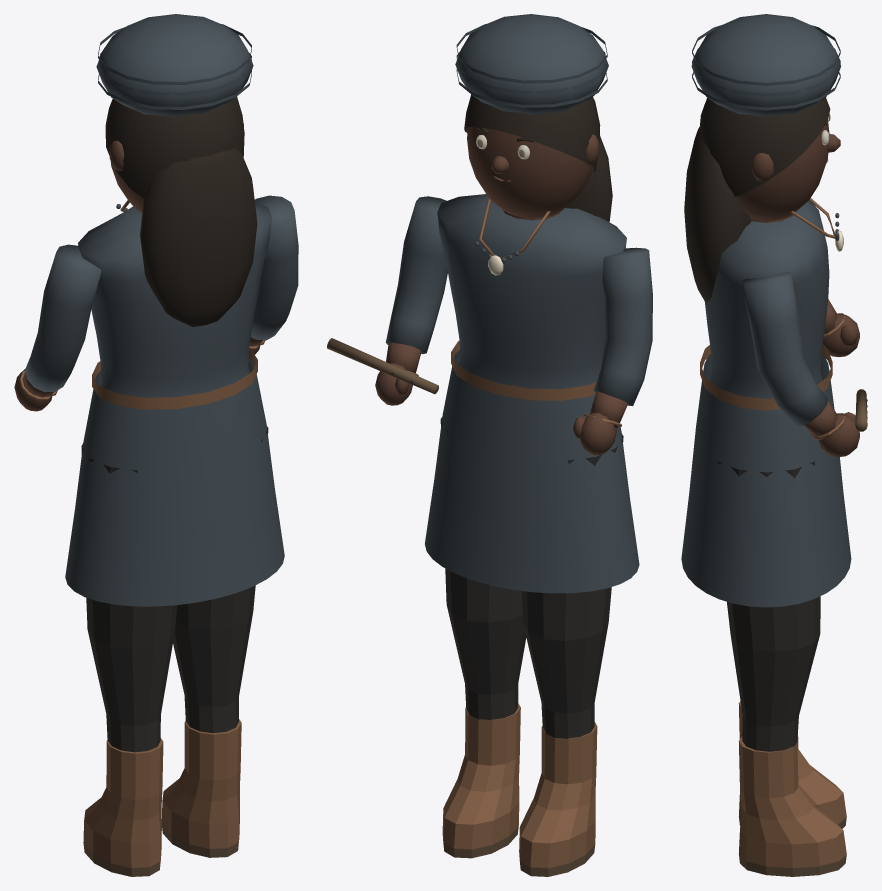
The model's file is SM_NPC_HUMO.glb.
3 views of the same model, side by side, from view 1: azimuth 30°, elevation 25°; view 2: azimuth 150°, elevation 25°; view 3: azimuth 270°, elevation 25° (orthographic). The views are drawn at different scales.
Visible parts, largest first — view 1: SM_NPC_HUMO_BODY, SM_NPC_HUMO_HAIR, SM_NPC_HUMO_LEG_L, SM_NPC_HUMO_LEG_R, SM_NPC_HUMO_ARM_L, SM_NPC_HUMO_ARM_R, SM_NPC_HUMO_HEAD; view 2: SM_NPC_HUMO_BODY, SM_NPC_HUMO_LEG_L, SM_NPC_HUMO_HAIR, SM_NPC_HUMO_LEG_R, SM_NPC_HUMO_ARM_L, SM_NPC_HUMO_ARM_R, SM_NPC_HUMO_HEAD; view 3: SM_NPC_HUMO_BODY, SM_NPC_HUMO_HAIR, SM_NPC_HUMO_LEG_R, SM_NPC_HUMO_ARM_R, SM_NPC_HUMO_HEAD, SM_NPC_HUMO_LEG_L, SM_NPC_HUMO_ARM_L.
Boxes of the visible parts, x1=… form: SM_NPC_HUMO_BODY: x1=65, y1=200, x2=284, y2=606; SM_NPC_HUMO_HAIR: x1=96, y1=14, x2=257, y2=326; SM_NPC_HUMO_LEG_L: x1=81, y1=443, x2=177, y2=876; SM_NPC_HUMO_LEG_R: x1=161, y1=426, x2=268, y2=857; SM_NPC_HUMO_ARM_L: x1=14, y1=244, x2=101, y2=411; SM_NPC_HUMO_ARM_R: x1=249, y1=195, x2=298, y2=354; SM_NPC_HUMO_HEAD: x1=109, y1=124, x2=243, y2=212; SM_NPC_HUMO_BODY: x1=425, y1=194, x2=639, y2=593; SM_NPC_HUMO_LEG_L: x1=519, y1=433, x2=623, y2=876; SM_NPC_HUMO_HAIR: x1=455, y1=14, x2=612, y2=221; SM_NPC_HUMO_LEG_R: x1=440, y1=417, x2=526, y2=858; SM_NPC_HUMO_ARM_L: x1=573, y1=247, x2=652, y2=455; SM_NPC_HUMO_ARM_R: x1=327, y1=196, x2=447, y2=405; SM_NPC_HUMO_HEAD: x1=467, y1=127, x2=599, y2=217; SM_NPC_HUMO_BODY: x1=681, y1=198, x2=851, y2=607; SM_NPC_HUMO_HAIR: x1=684, y1=14, x2=840, y2=303; SM_NPC_HUMO_LEG_R: x1=717, y1=461, x2=846, y2=876; SM_NPC_HUMO_ARM_R: x1=741, y1=272, x2=867, y2=456; SM_NPC_HUMO_HEAD: x1=737, y1=120, x2=840, y2=220; SM_NPC_HUMO_LEG_L: x1=738, y1=701, x2=846, y2=828; SM_NPC_HUMO_ARM_L: x1=823, y1=299, x2=859, y2=356.
Bounding box in the file's own units: 0.6766 × 1.88 × 0.3866.
